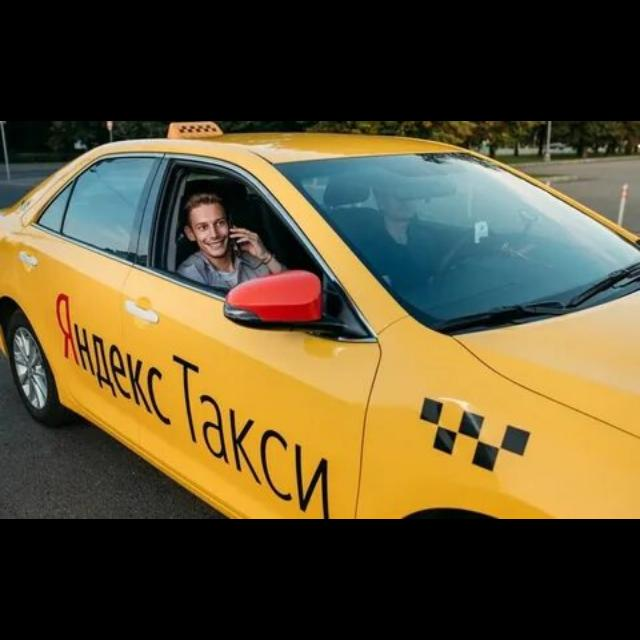taxi: (1, 123, 639, 520)
